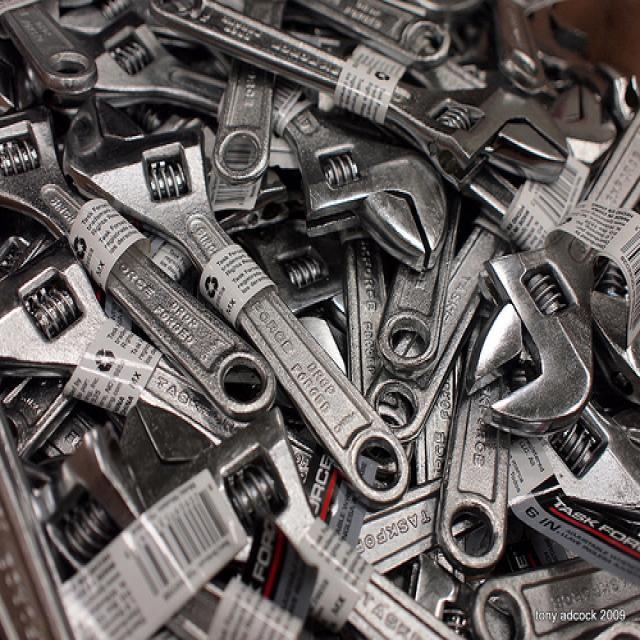wrench: (231, 10, 566, 180), (466, 216, 616, 434), (273, 88, 450, 270), (70, 94, 236, 264)
